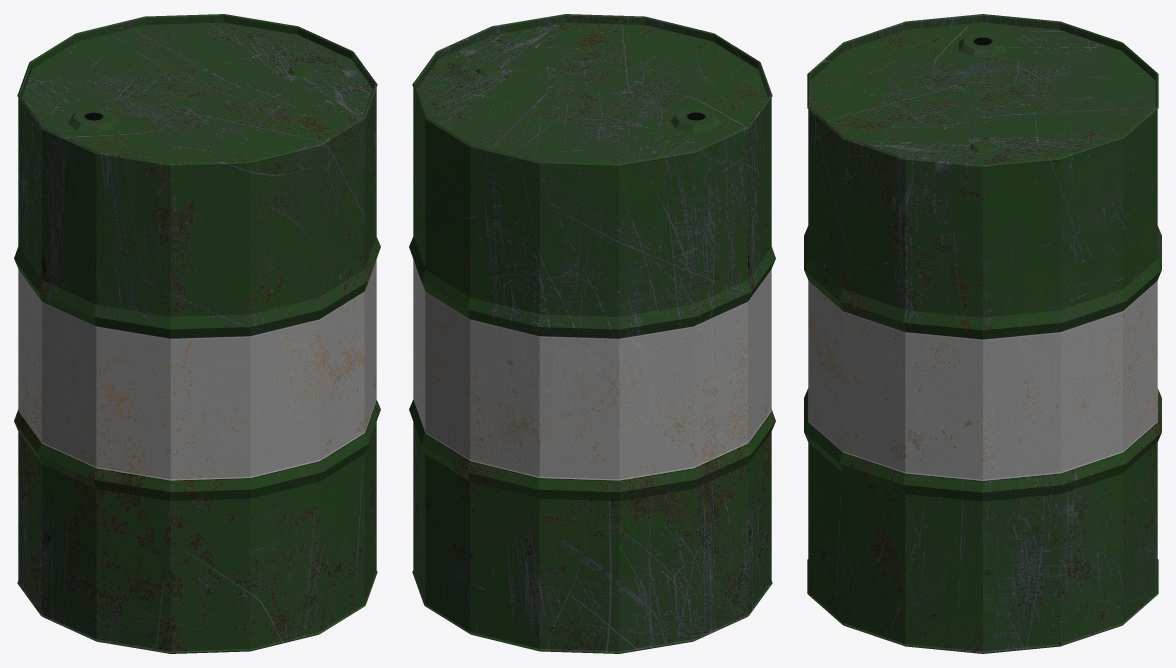
The model's file is barrelGreen.obj.
3 views of the same model, side by side, from view 1: azimuth 30°, elevation 25°; view 2: azimuth 150°, elevation 25°; view 3: azimuth 270°, elevation 25° (orthographic).
Parts seen in each view (by area): view 1: metal_barrel_Untitled; view 2: metal_barrel_Untitled; view 3: metal_barrel_Untitled.
Boxes of the visible parts, box(x1,y1,x2,y2) form: metal_barrel_Untitled: box(14, 14, 380, 653); metal_barrel_Untitled: box(409, 14, 775, 653); metal_barrel_Untitled: box(804, 14, 1161, 653).
Bounding box in the file's own units: 0.615 × 0.9043 × 0.5996.
